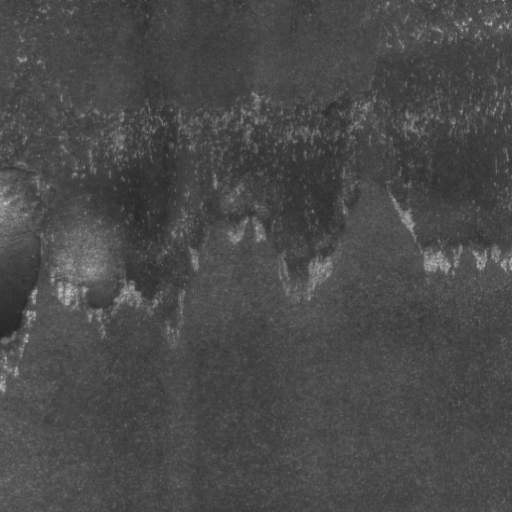qiaopi: (44, 186, 207, 341), (1, 164, 43, 346)
